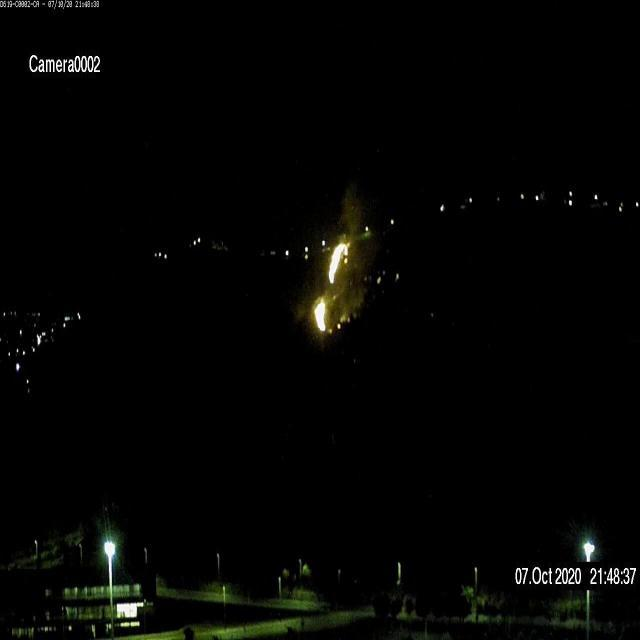Fire: (313, 230, 353, 339), (313, 296, 331, 332)
Smoke: (290, 187, 375, 341)
